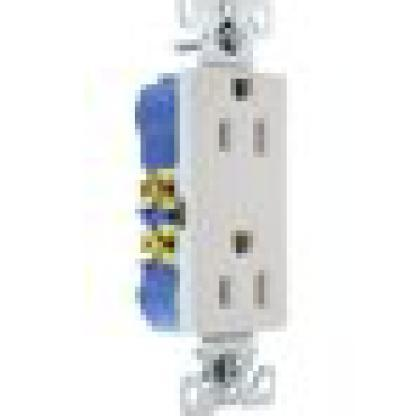OUTLET: (180, 67, 287, 338)
